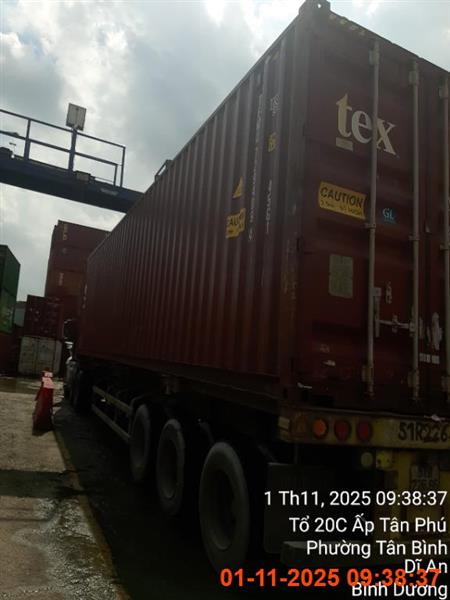hole: (63, 0, 449, 582)
